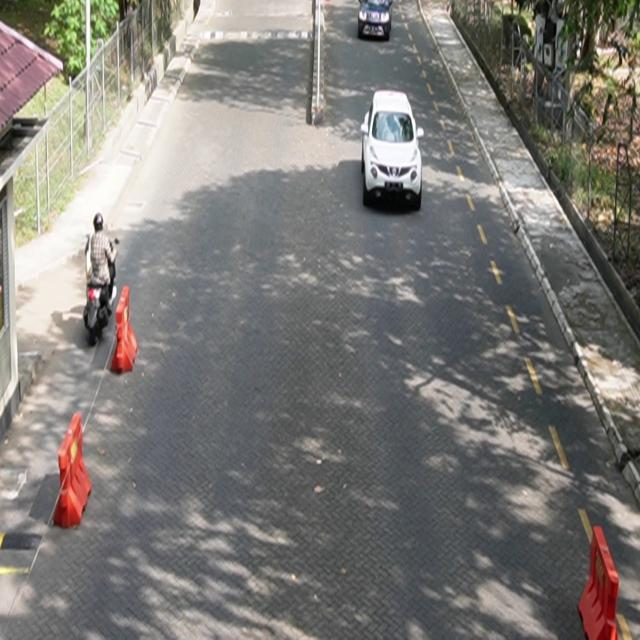car: (361, 90, 425, 211), (358, 1, 393, 41)
